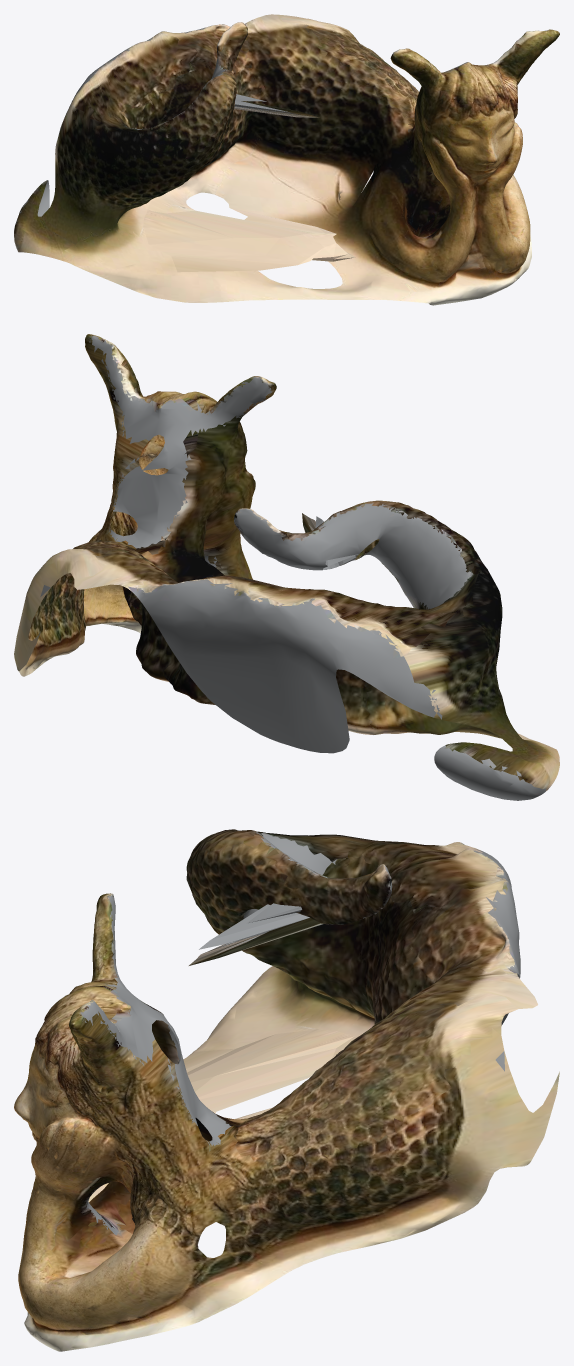
Rendered from wormWoman.obj.
3 renders of one model, top to bottom at view 1: azimuth 30°, elevation 25°; view 2: azimuth 150°, elevation 25°; view 3: azimuth 270°, elevation 25°, orthographic. The views are drawn at different scales.
Visible parts, largest first — view 1: wormWoman; view 2: wormWoman; view 3: wormWoman.
Part boxes in pixels (<box>): wormWoman: <box>14,14,559,305</box>; wormWoman: <box>14,334,559,800</box>; wormWoman: <box>14,829,559,1351</box>.
Bounding box in the file's own units: 22.42 × 11.75 × 14.95.
Materials: 1 (1 with a texture image).
